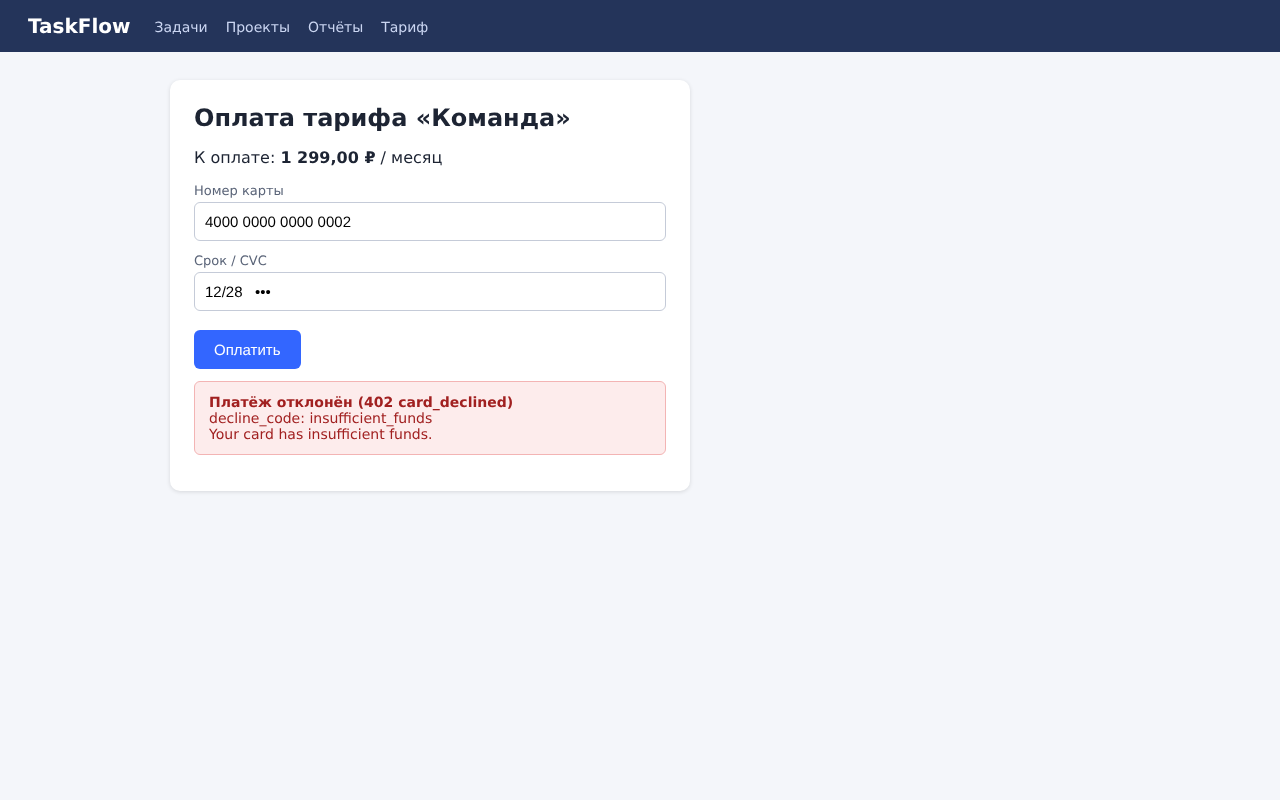ERROR_TEXT: (194, 381, 666, 455)
PII: (205, 216, 351, 228), (206, 286, 270, 298)
STATUS_INDICATOR: (210, 396, 512, 411)
UI_ELEMENT: (194, 202, 666, 241), (194, 330, 301, 369)
